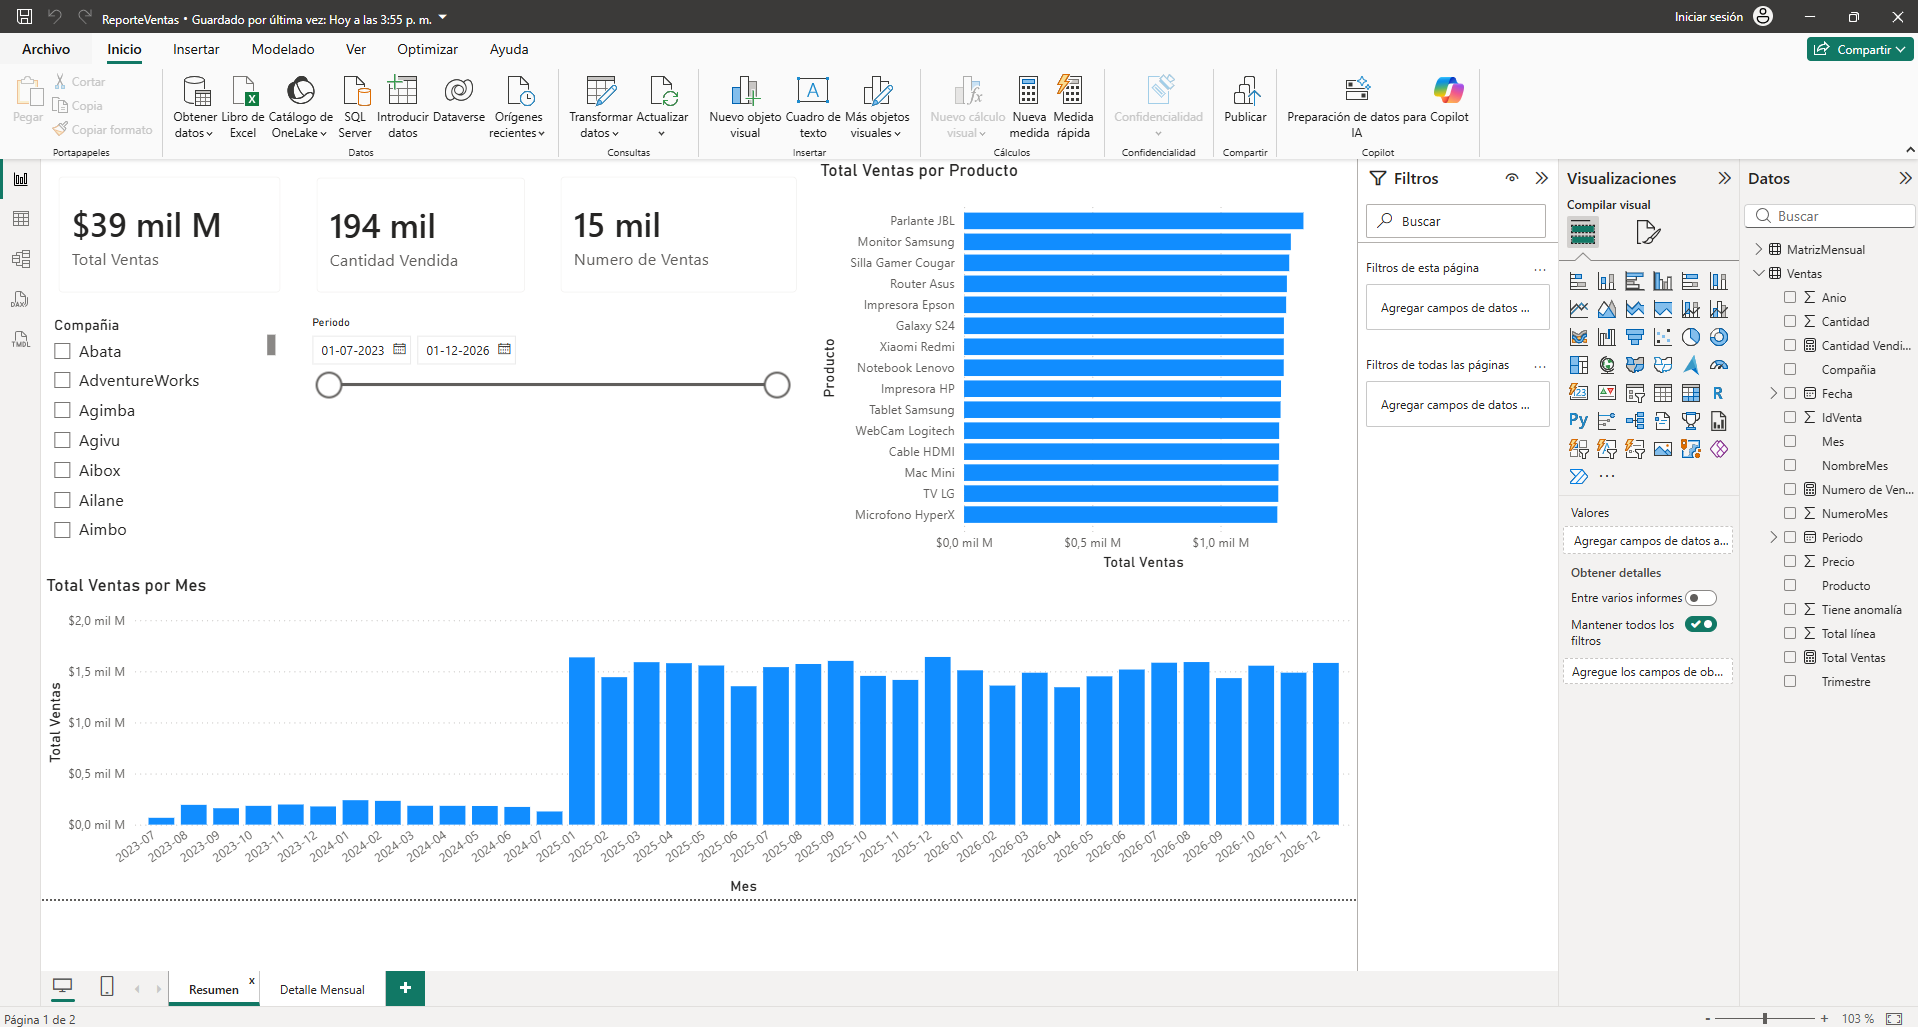

What the dashboard file says about the page in this screenshot:
{"tool":"powerbi","page":{"name":"Resumen","canvas":[1280,720],"ordinal":0},"visuals":[{"type":"cardVisual","fields":{"Data":["Ventas.Total Ventas"]},"box":[0,0,250.9,147.8],"z":0},{"type":"cardVisual","fields":{"Data":["Ventas.Cantidad Vendida"]},"box":[250.9,1,237.3,146.9],"z":1000},{"type":"cardVisual","fields":{"Data":["MatrizMensual.Numero de Ventas"]},"box":[488.3,0,264.6,147.8],"z":2000},{"type":"columnChart","fields":{"Category":["Ventas.AnioMes"],"Y":["Ventas.Total Ventas"]},"box":[0,404.6,1280,315.1],"z":3000},{"type":"barChart","fields":{"Category":["Ventas.Producto"],"Y":["Ventas.Total Ventas"]},"box":[752.8,1,527.2,403.6],"z":4000},{"type":"slicer","fields":{"Values":["Ventas.Compania"]},"box":[0,147.8,233.4,233.4],"z":5000},{"type":"slicer","fields":{"Values":["Ventas.Periodo"]},"box":[250.9,147.8,485.3,128.4],"z":6000}]}

Visuals, with their boxes on the page's 1280x720 design canvas (x1, y1, x2, y2). These are canvas units, not pixel positions in the 1918x1027 screenshot, which may show the page scaled, cropped or inside an application window:
cardVisual - Ventas.Total Ventas: bbox=[0, 0, 251, 148]
cardVisual - Ventas.Cantidad Vendida: bbox=[251, 1, 488, 148]
cardVisual - MatrizMensual.Numero de Ventas: bbox=[488, 0, 753, 148]
columnChart - Ventas.AnioMes x Ventas.Total Ventas: bbox=[0, 405, 1280, 720]
barChart - Ventas.Producto x Ventas.Total Ventas: bbox=[753, 1, 1280, 405]
slicer - Ventas.Compania: bbox=[0, 148, 233, 381]
slicer - Ventas.Periodo: bbox=[251, 148, 736, 276]
